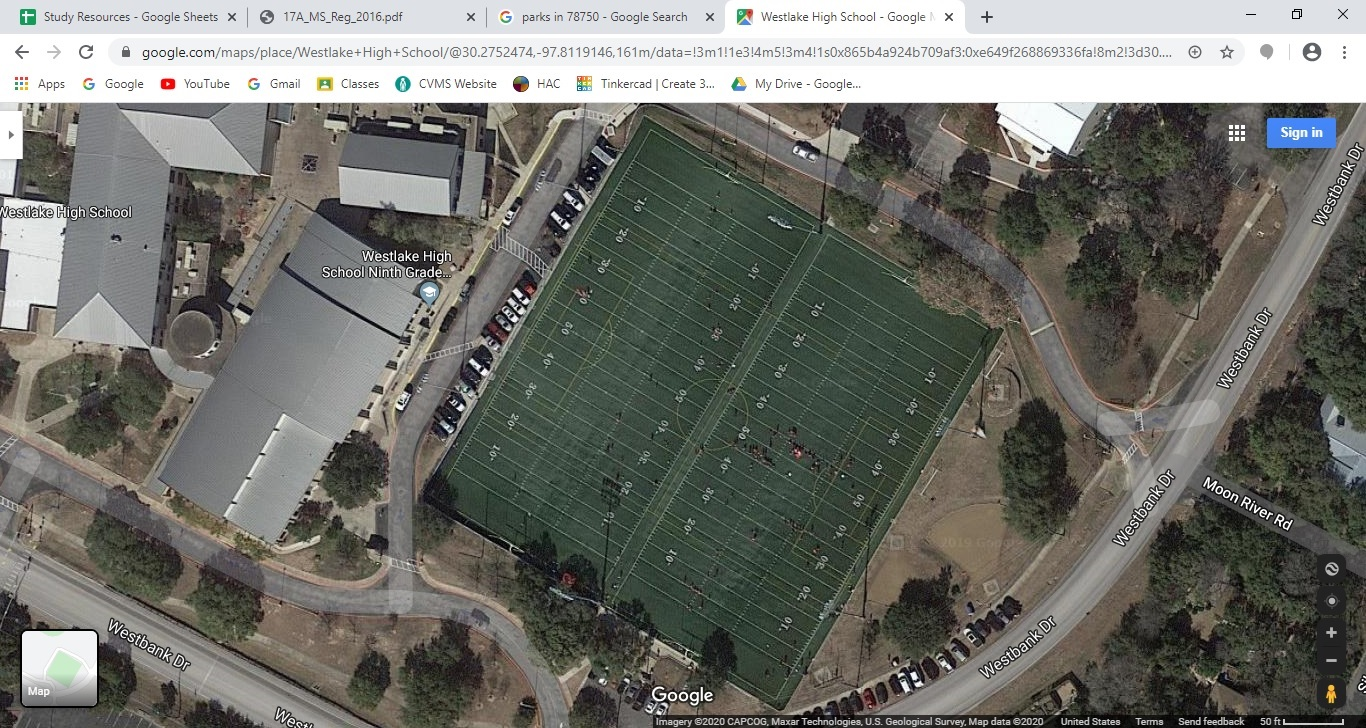football: (467, 122, 1034, 702)
